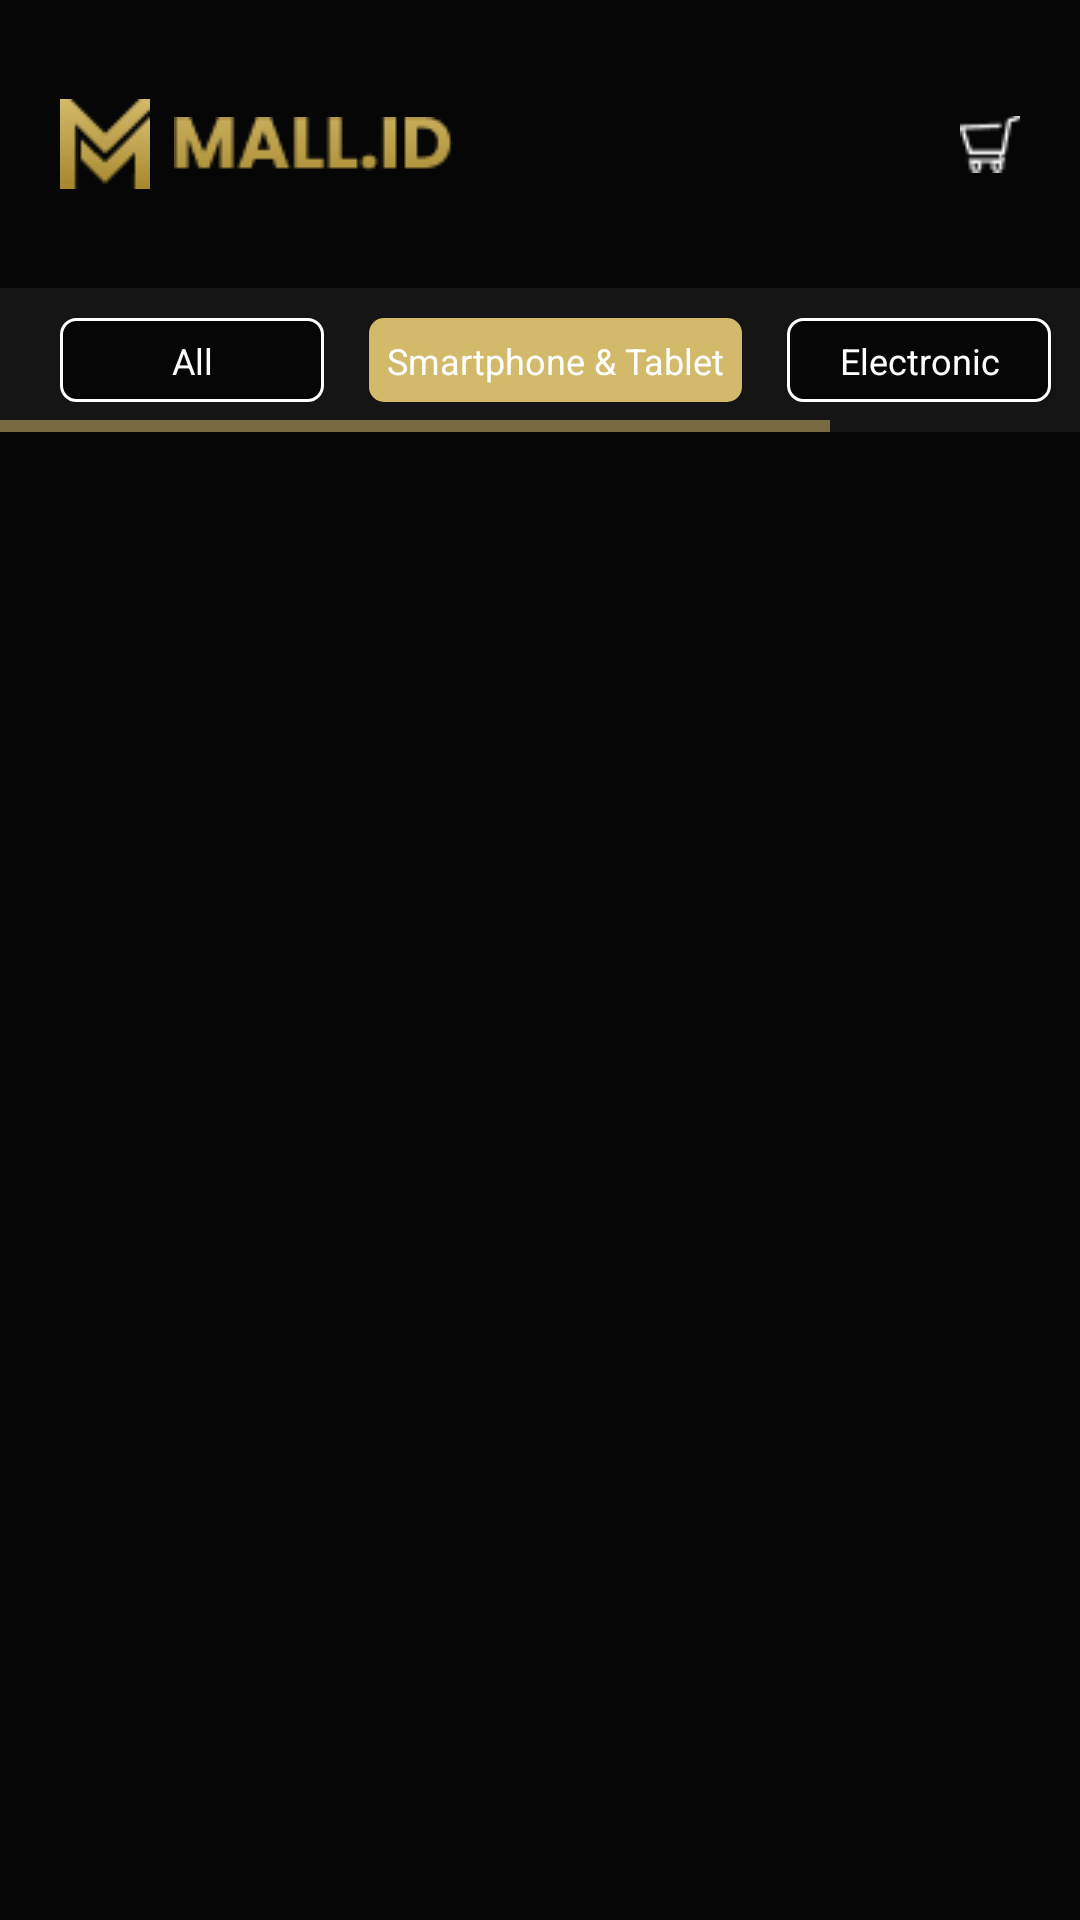

Locate icon controls on the screen. Image size 1080px x 1920px, boxes as box(x1, y1, x2, y2).
cart: box(960, 116, 1020, 173)
